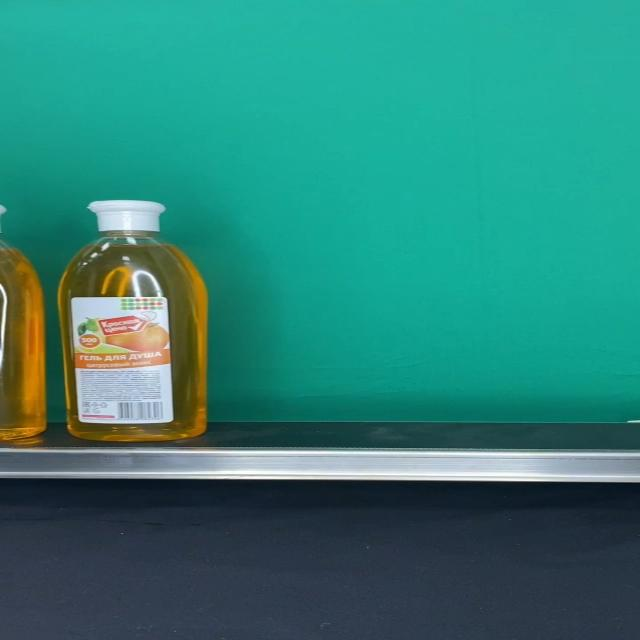Bottle: (56, 200, 210, 442)
Cap: (86, 200, 166, 232)
